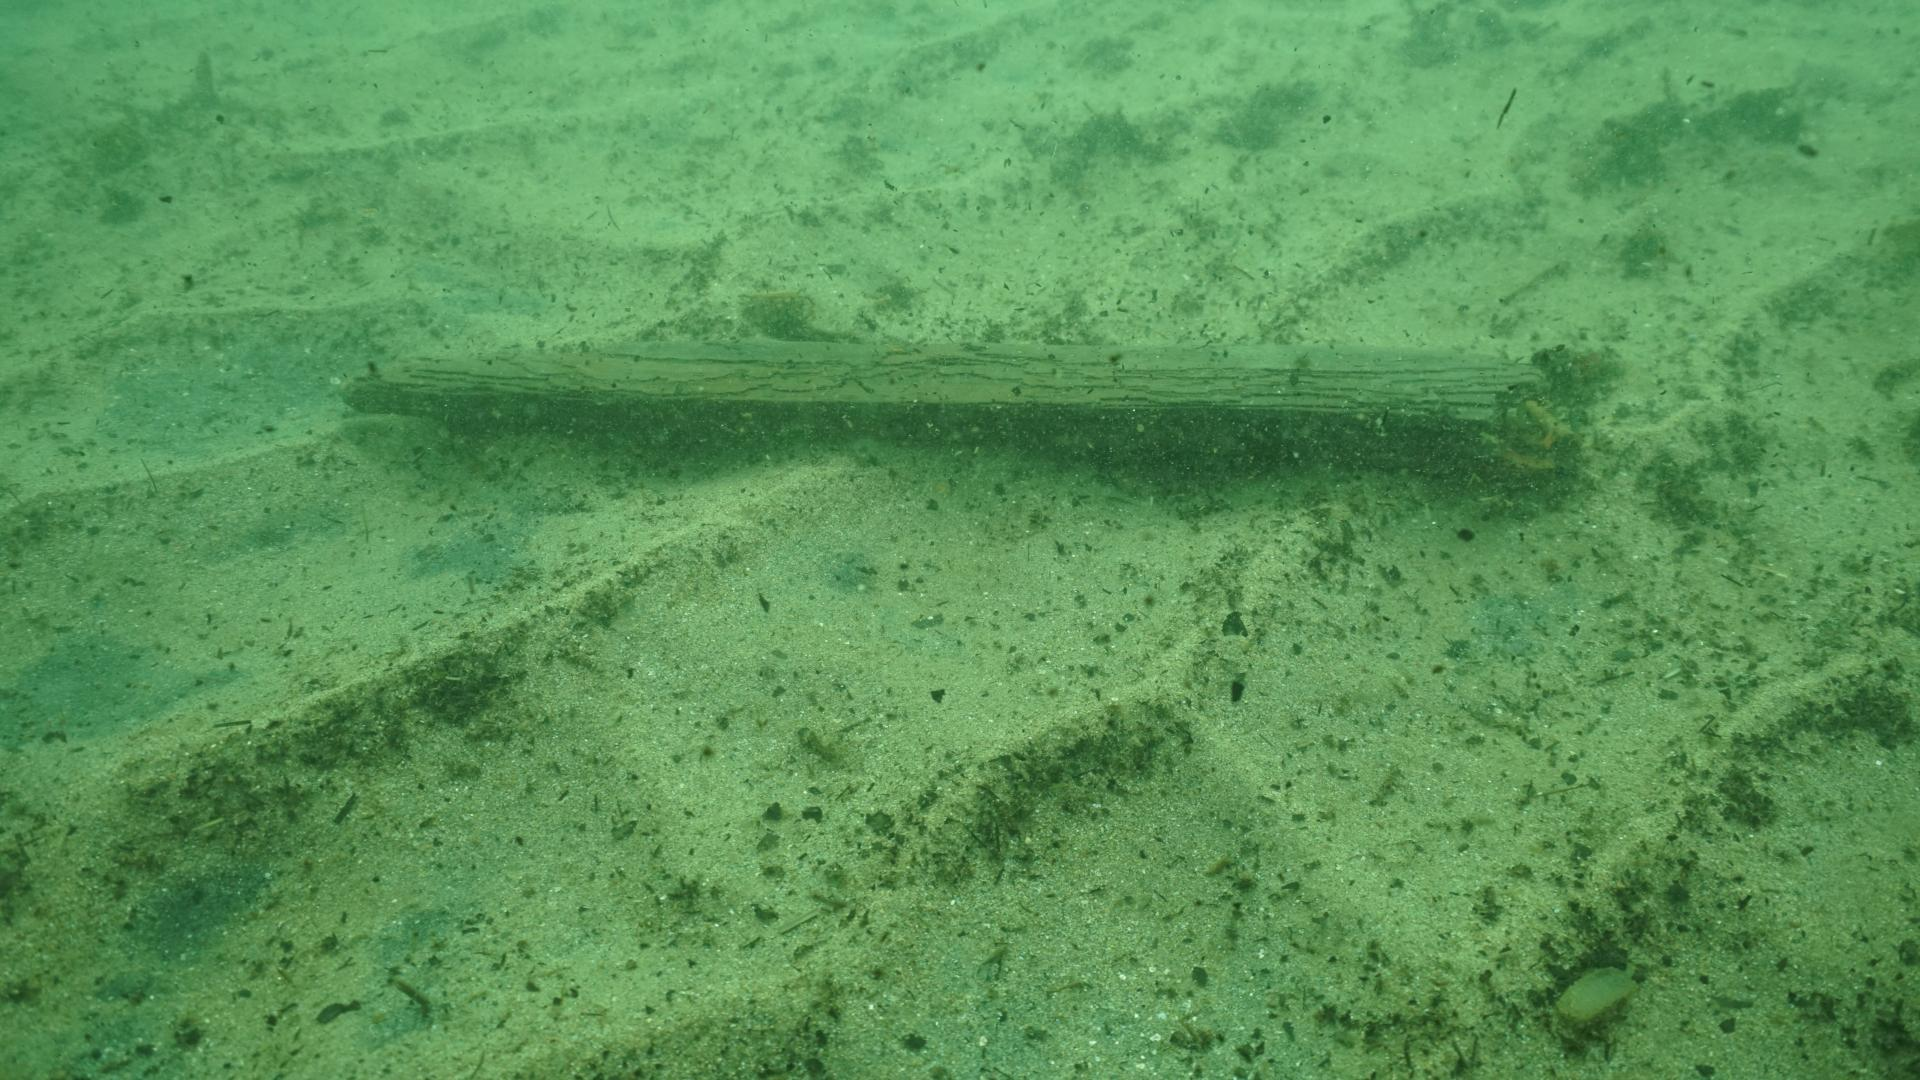wood: (338, 336, 1605, 481)
